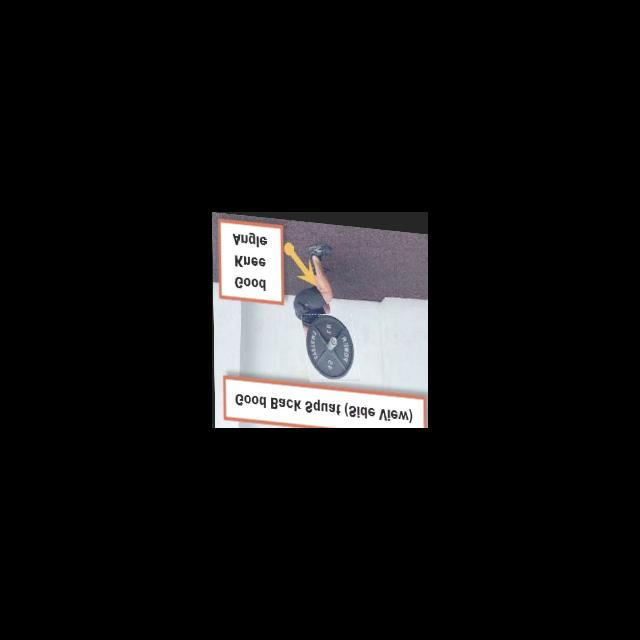barbell: (303, 308, 358, 382)
